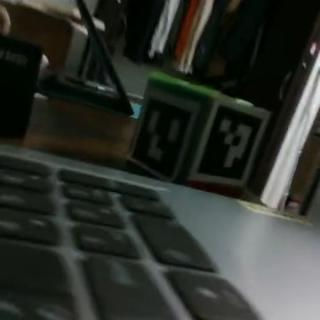armor: (128, 86, 198, 184), (193, 100, 268, 184)
robot: (126, 72, 270, 189)
